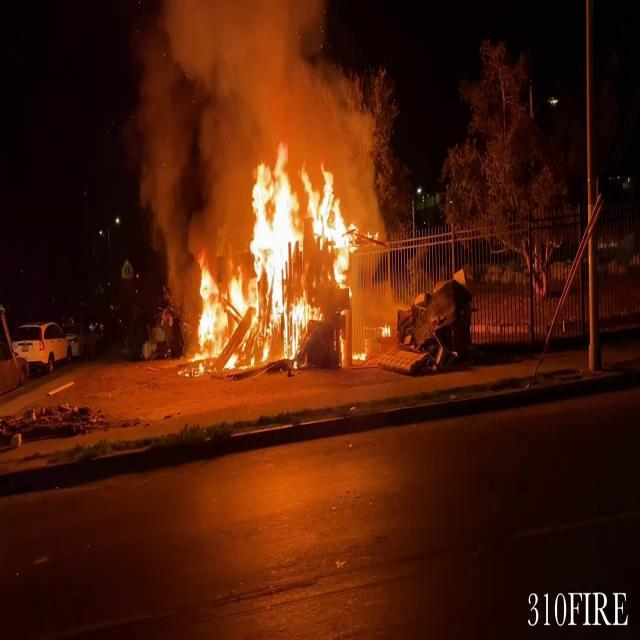Fire: (188, 136, 373, 370)
Smoke: (118, 0, 368, 186)
